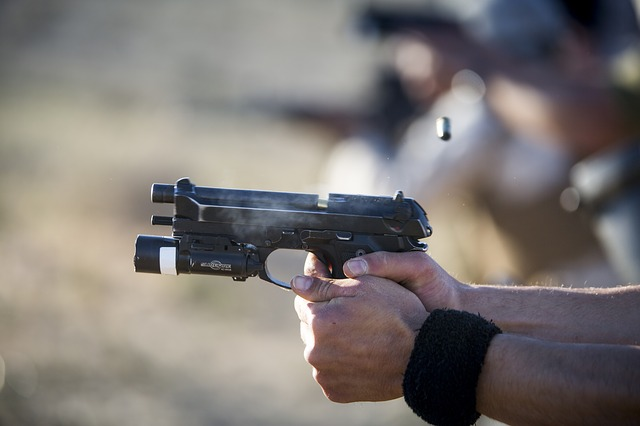gun: (125, 171, 439, 310)
